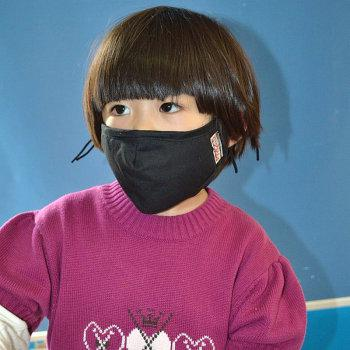OK: (101, 84, 224, 207)
